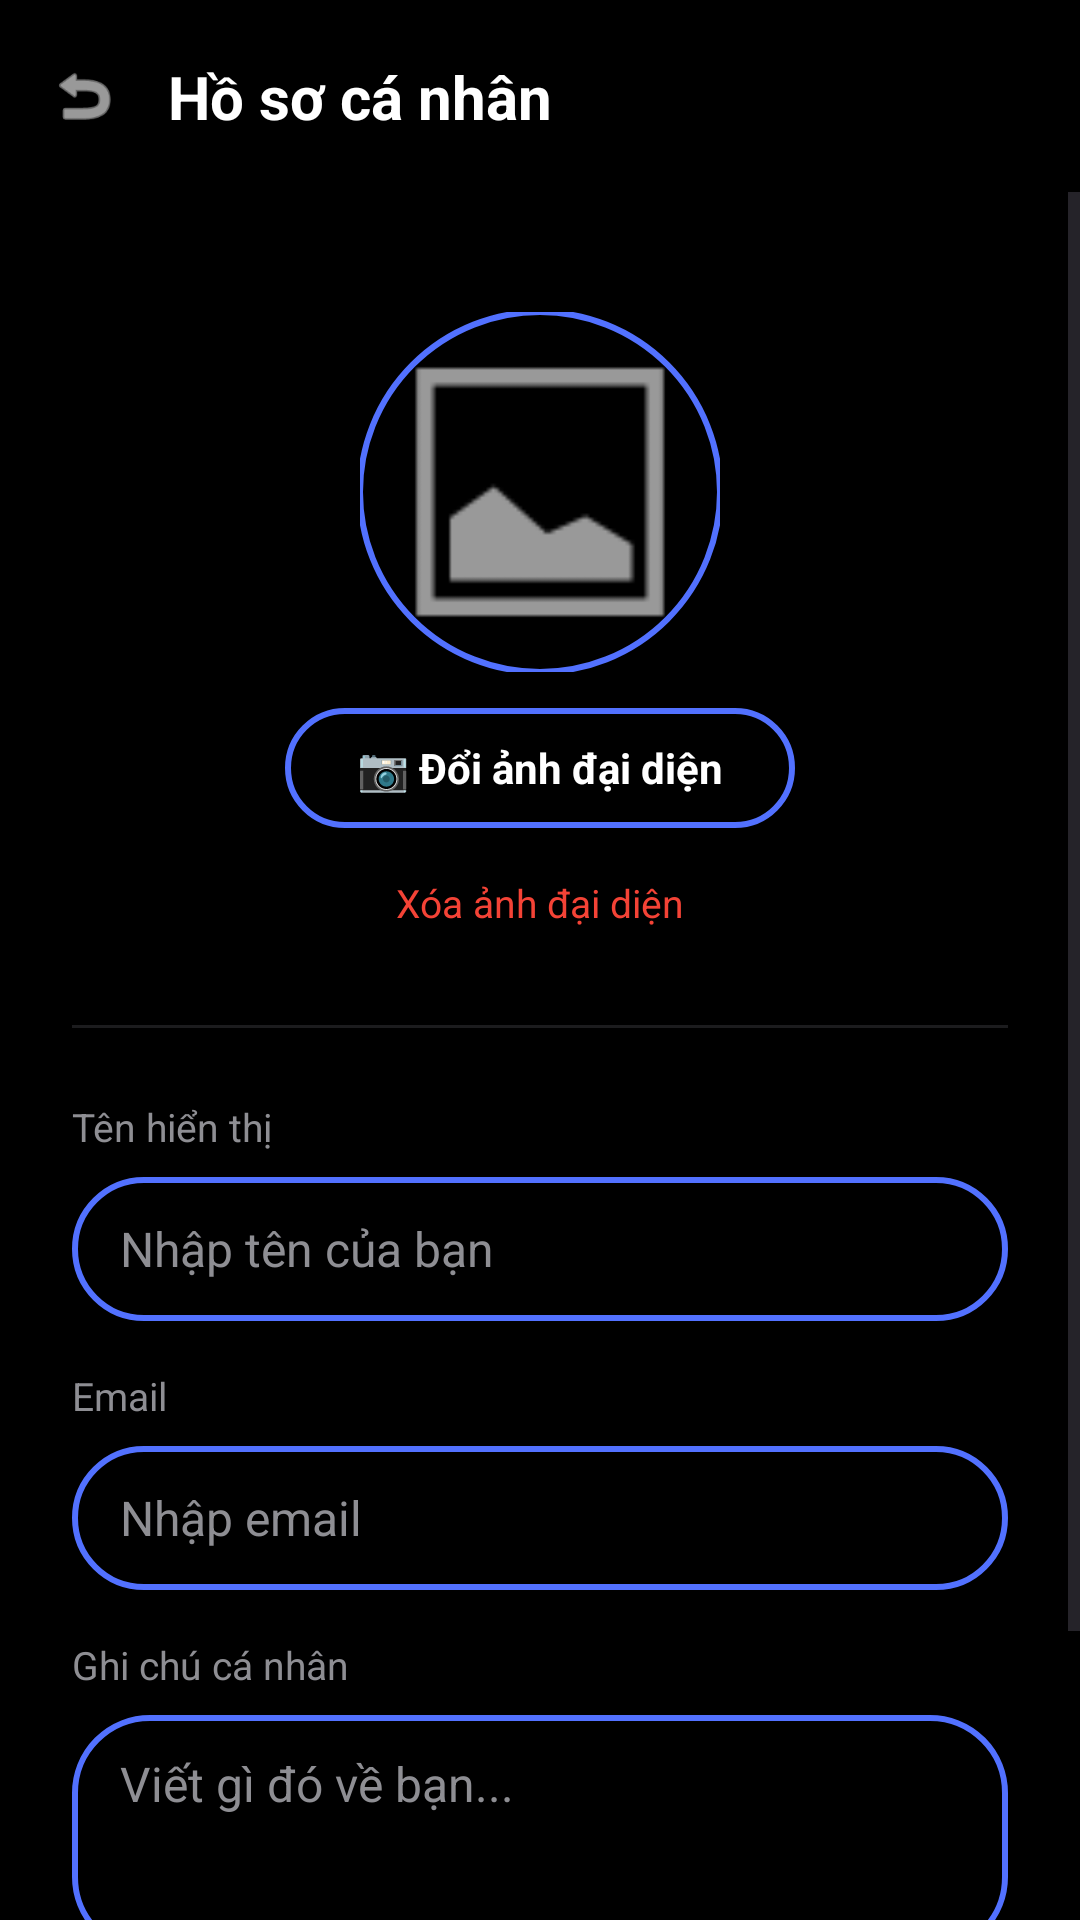

Named icons in this screenshot (1080px x 1920px) and their bounding boxes, {"left": x1, "top": y1, "right": x2, "bottom": y2}:
gallery: {"left": 360, "top": 312, "right": 720, "bottom": 672}
revert: {"left": 59, "top": 73, "right": 111, "bottom": 120}
